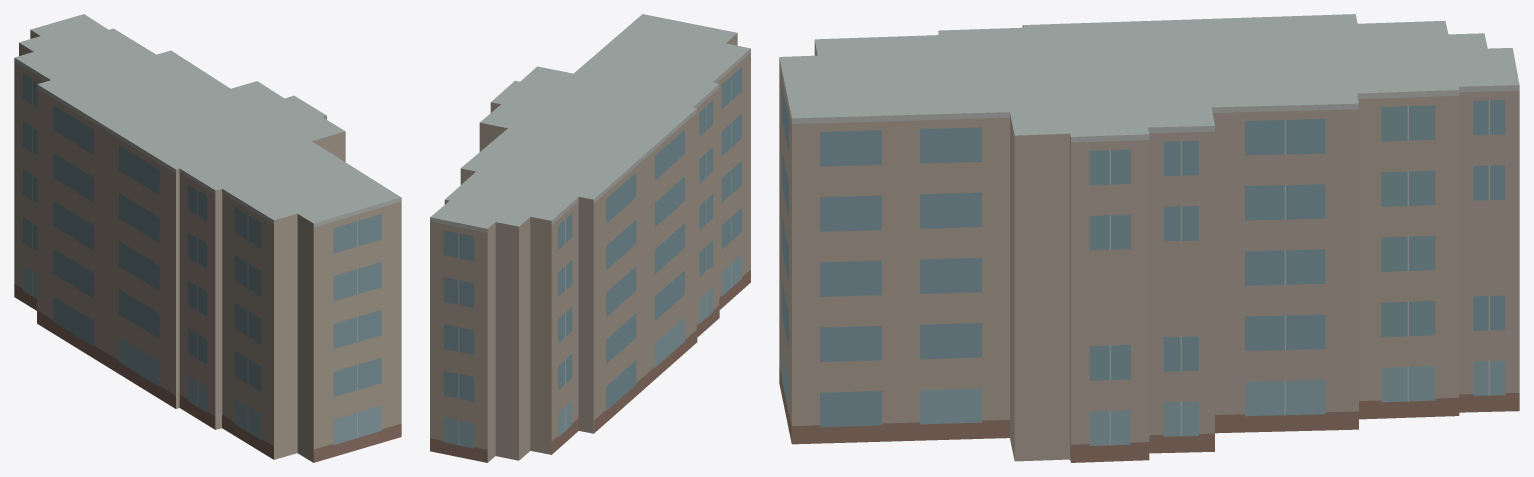
File: survey-upis-32623901.glb
The picture shows the model from 3 angles, left to right: view 1: azimuth 30°, elevation 25°; view 2: azimuth 150°, elevation 25°; view 3: azimuth 270°, elevation 25°; orthographic projection. The views are drawn at different scales.
Parts seen in each view (by area): view 1: survey-upis-32623901.tmp; view 2: survey-upis-32623901.tmp; view 3: survey-upis-32623901.tmp.
Boxes of the visible parts, x1,y1,x2,y2 form: survey-upis-32623901.tmp: (14,14,401,462); survey-upis-32623901.tmp: (430,14,750,462); survey-upis-32623901.tmp: (779,14,1519,462).
Bounding box in the file's own units: 11.26 × 13.9 × 28.63.
